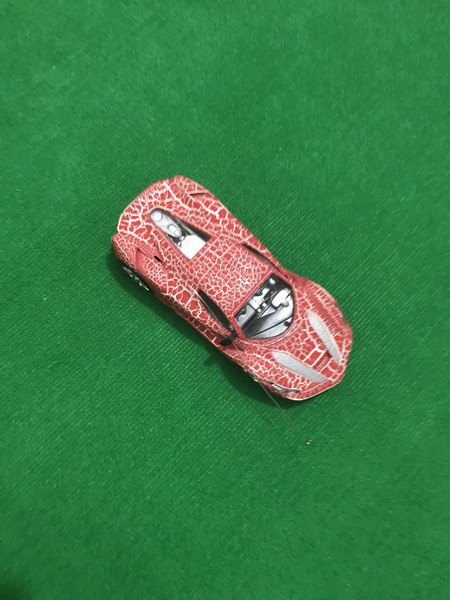RC: (103, 171, 356, 408)
